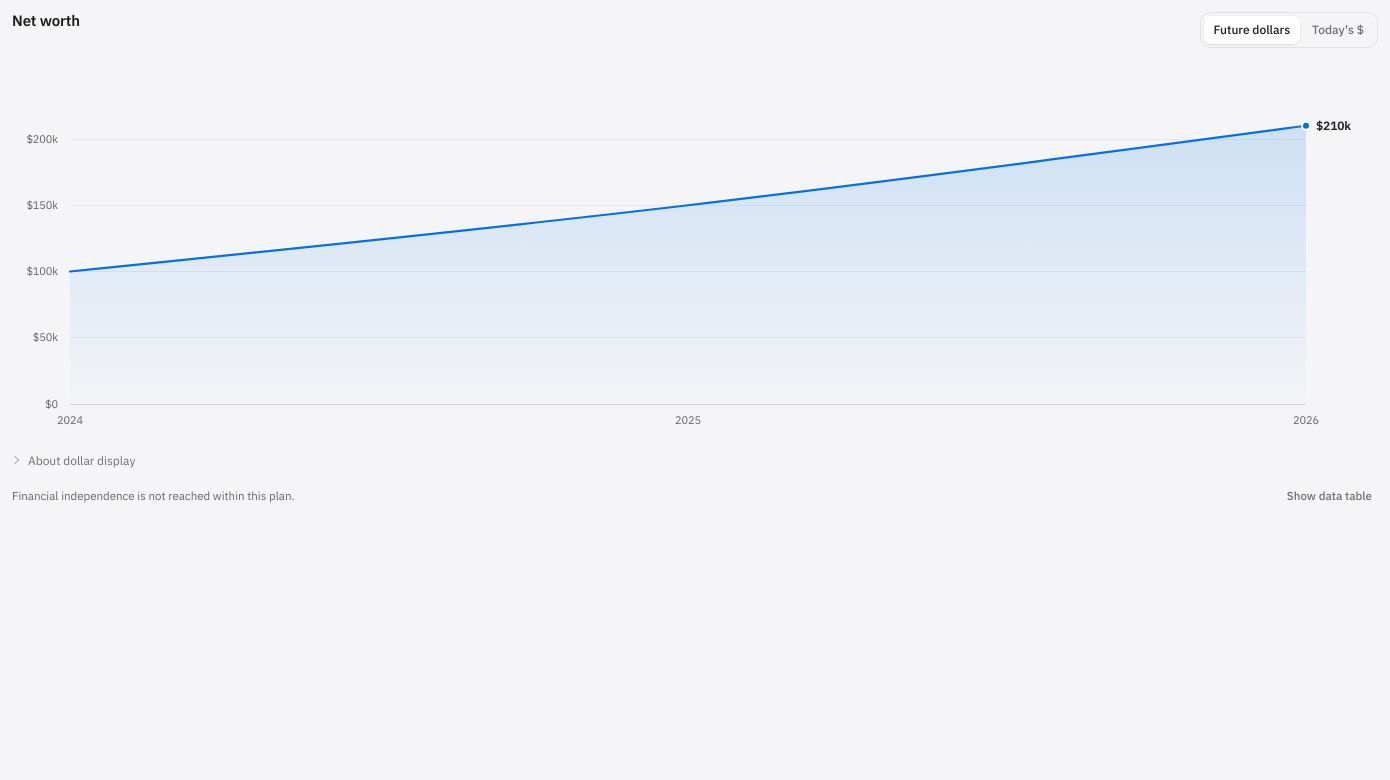
Test: NetWorthChart › shows one income column, with the calendar-year figure only in the partial first year
Click the button "Show data table" at (1329, 496), box [1281, 482, 1378, 510]
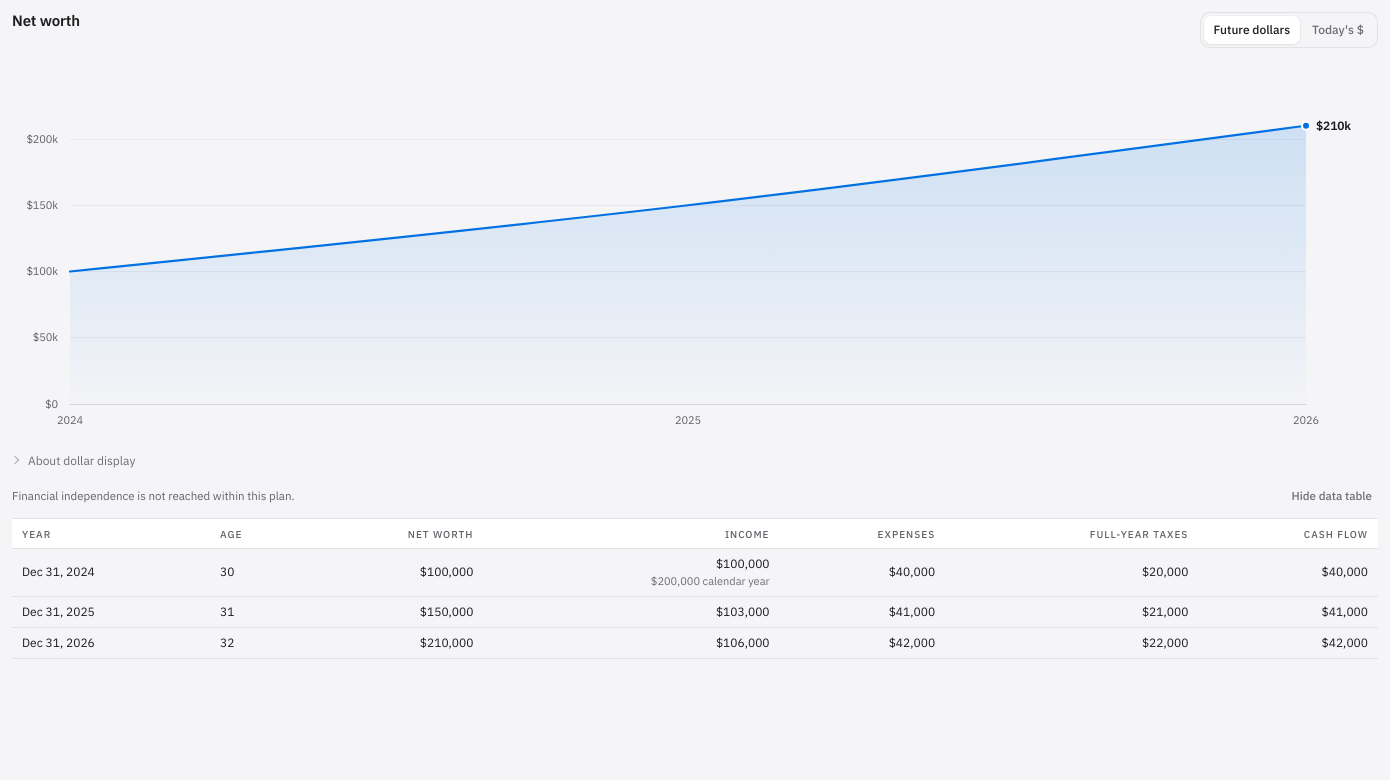
Expected: the cell "$100,000 $200,000 calendar year" is shown, [484, 549, 780, 596]
Expected: the cell "$103,000" is shown, [484, 596, 780, 627]
